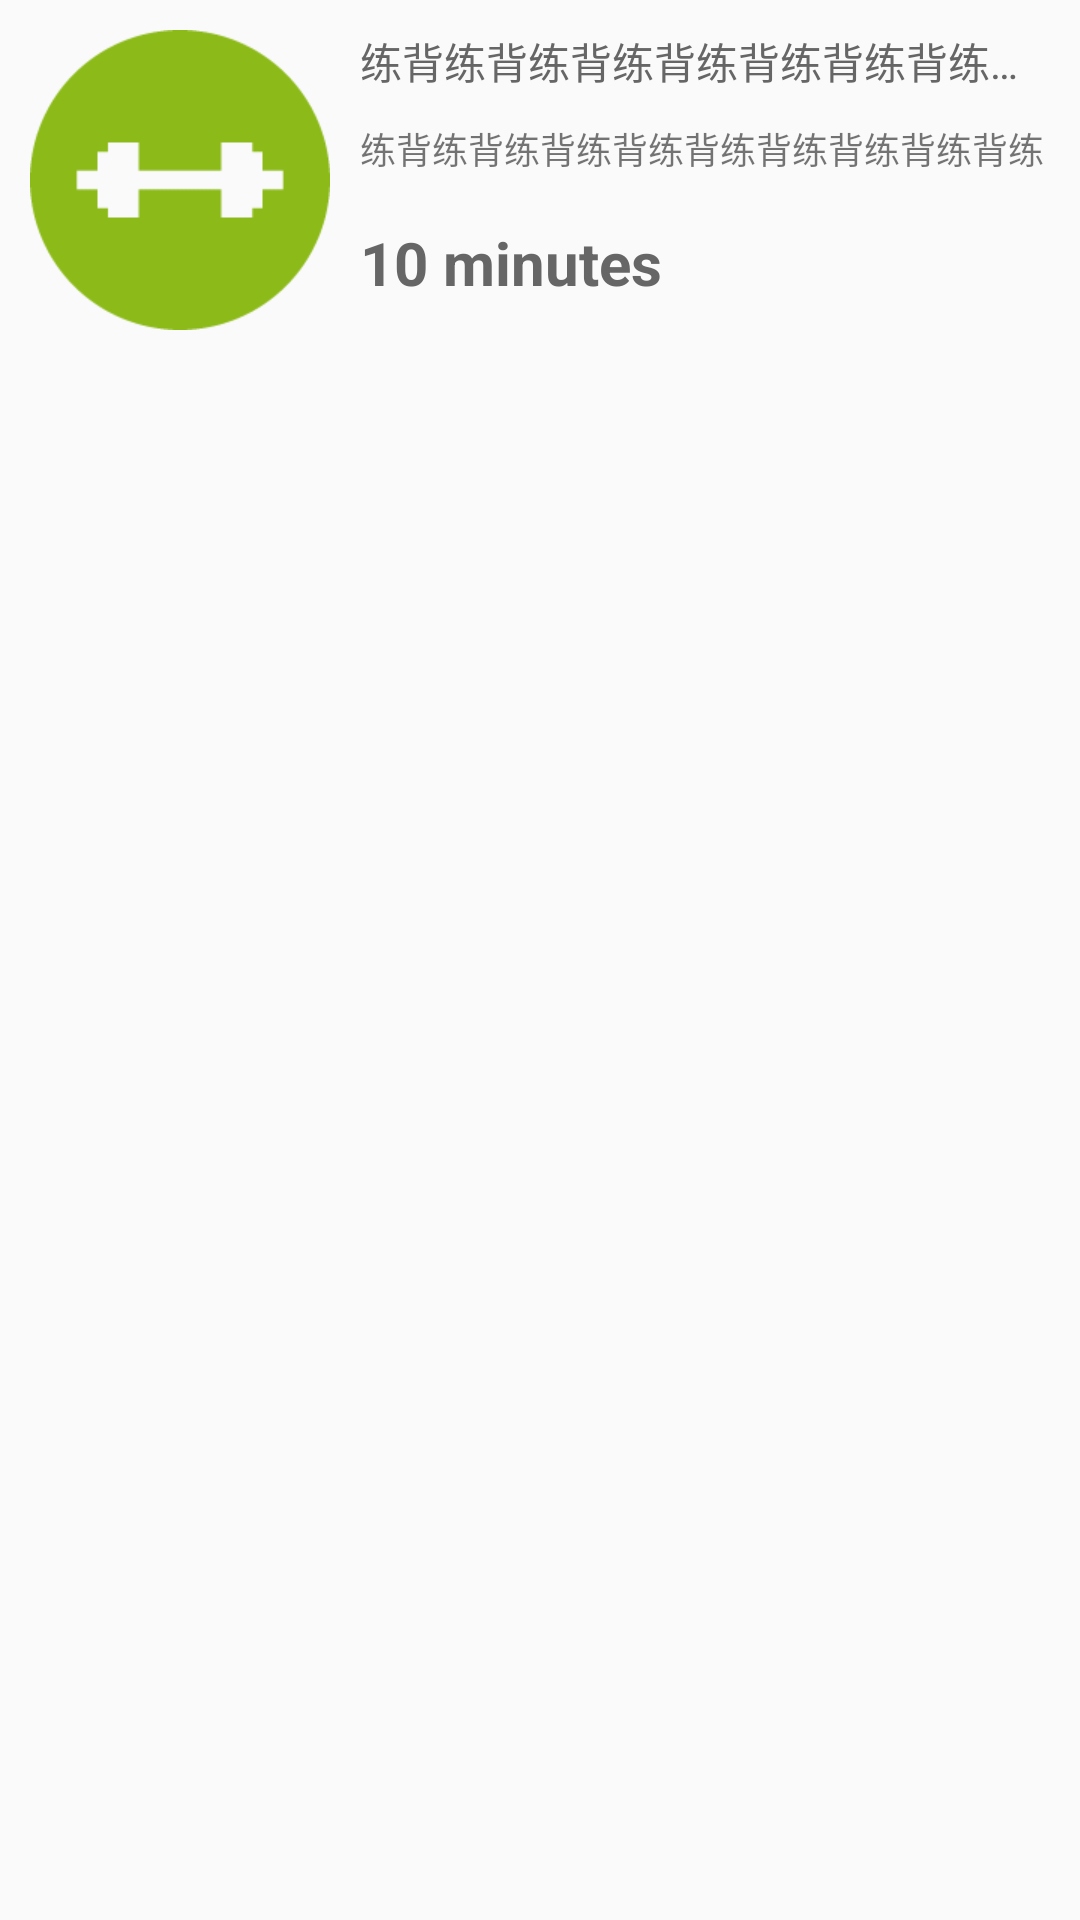

Screen size 1080 × 1920. Icon name, then its center in pixels as (x=x, y=y):
train right: (x=180, y=180)
